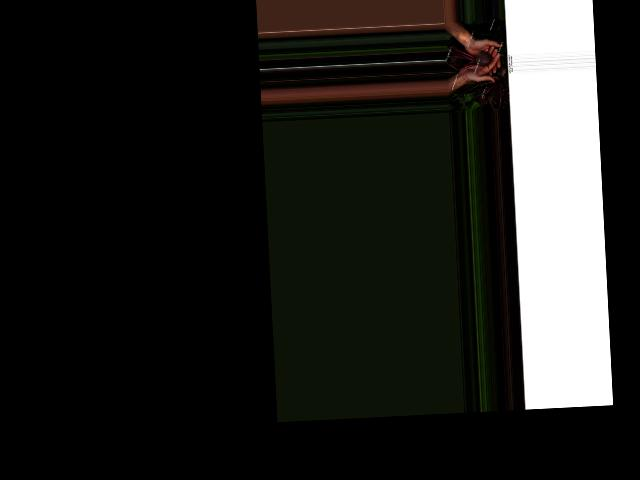beet: (447, 42, 493, 72)
